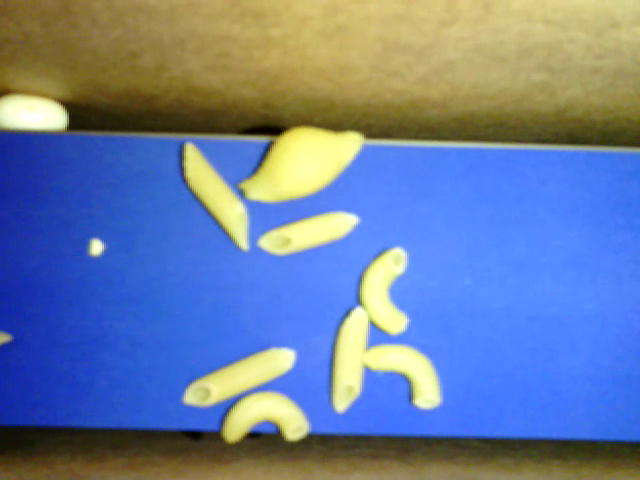elbow: (363, 344, 443, 411), (220, 390, 310, 443), (358, 245, 410, 335)
penne: (183, 140, 250, 253), (182, 347, 297, 405), (256, 208, 360, 255), (331, 305, 368, 414)
shell: (240, 126, 364, 202)
